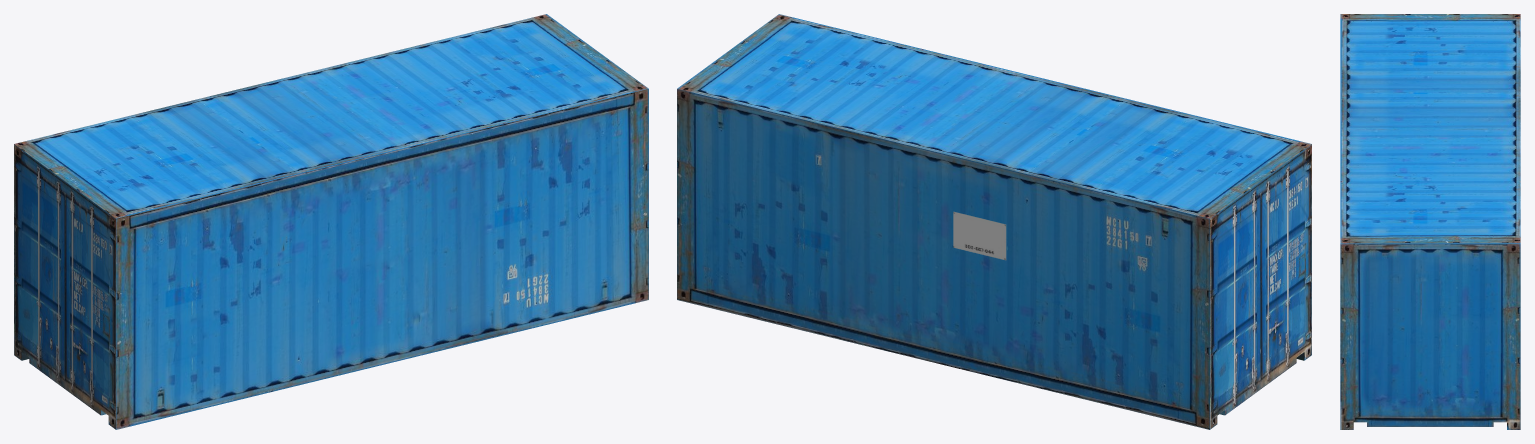
The model's file is conex.glb.
3 views of the same model, side by side, from view 1: azimuth 30°, elevation 25°; view 2: azimuth 150°, elevation 25°; view 3: azimuth 270°, elevation 25° (orthographic). The views are drawn at different scales.
Parts seen in each view (by area): view 1: Cube.002_0; view 2: Cube.002_0; view 3: Cube.002_0.
Boxes of the visible parts, left/top/right/bottom form: Cube.002_0: left=14, top=14, right=648, bottom=429; Cube.002_0: left=677, top=14, right=1311, bottom=429; Cube.002_0: left=1340, top=14, right=1520, bottom=429.
Size of the model in its own units: 6.06 by 2.3 by 2.02.
1 material, 1 textured.
